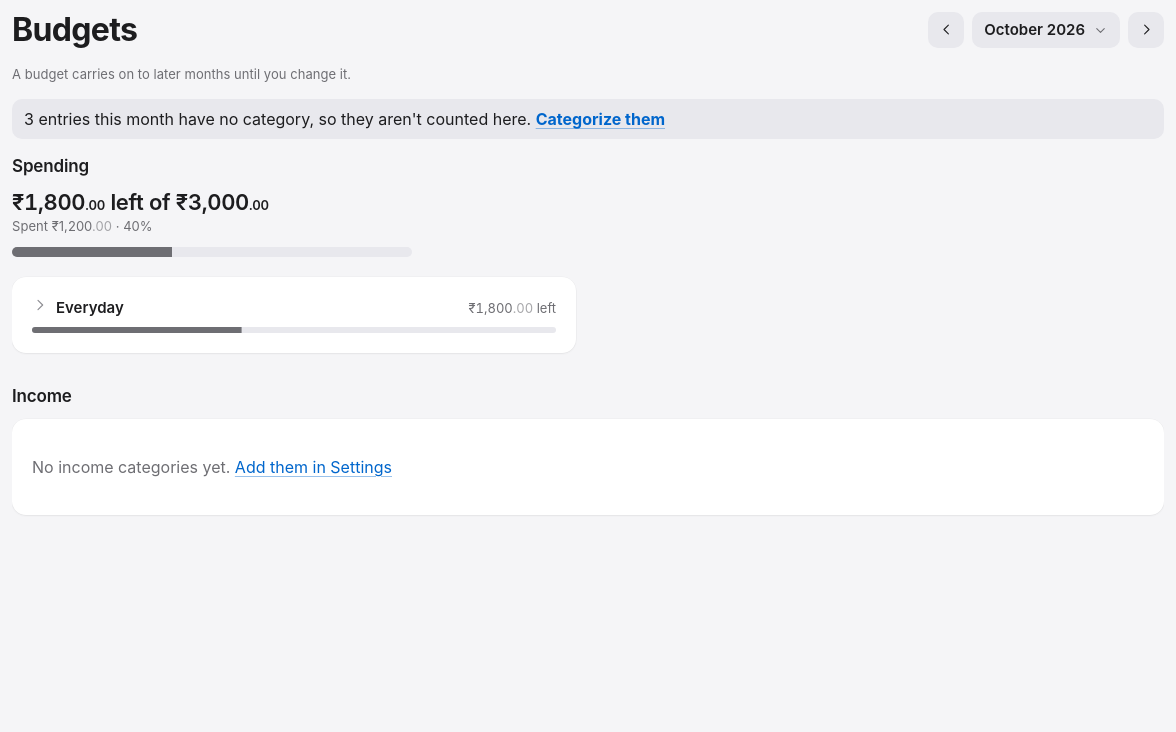
Test: points out unsaved changes in another month and switches to it
The width and height of the screenshot is (1176, 732).
Replace the text in the field labelled "Everyday ₹1,800.00 left" with "5000": (294, 315) [12,277,576,353]
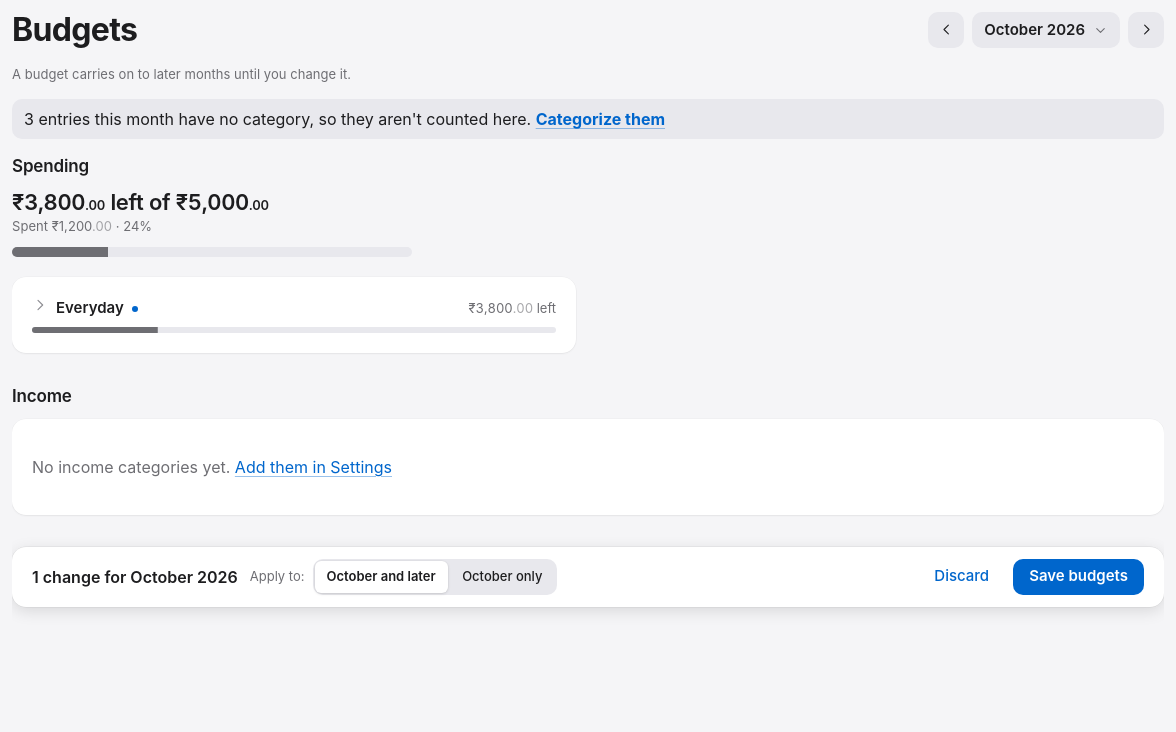
Click the button named "Next month": (1146, 30) [1128,12,1164,48]
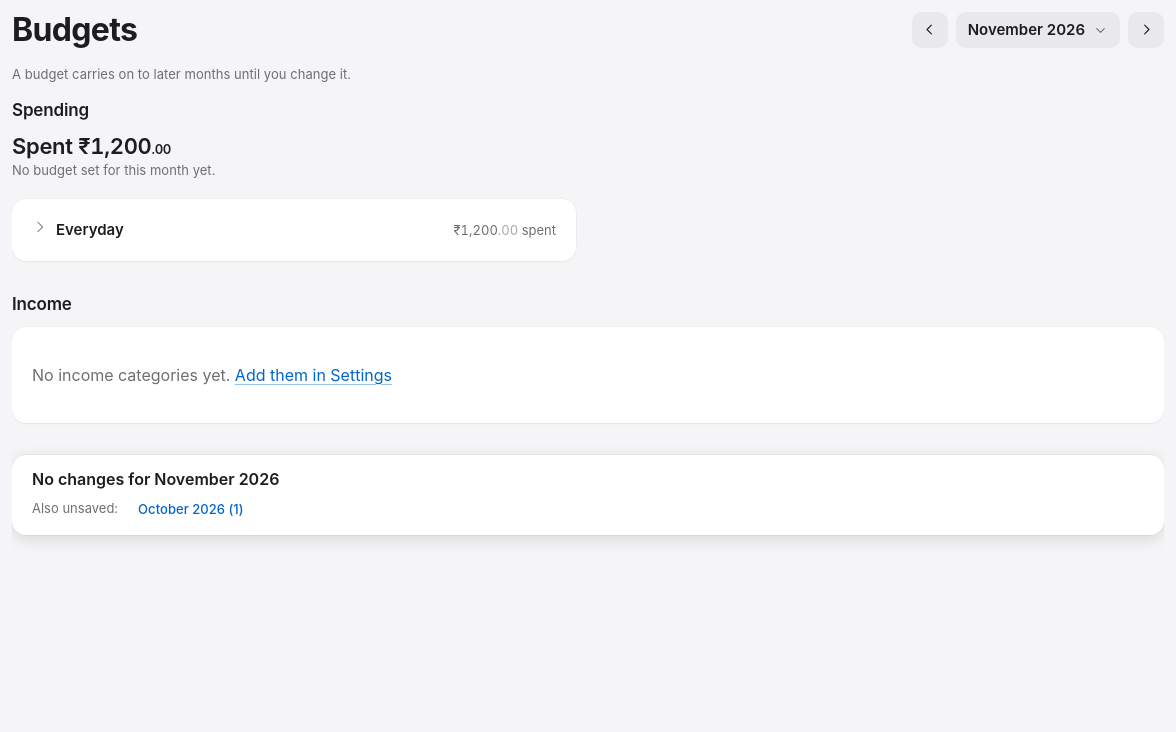
Expected: the text "No changes for November 2026" is shown, [32,467,279,491]
Click the button "October 2026 (1)": (191, 509) [126,495,256,523]
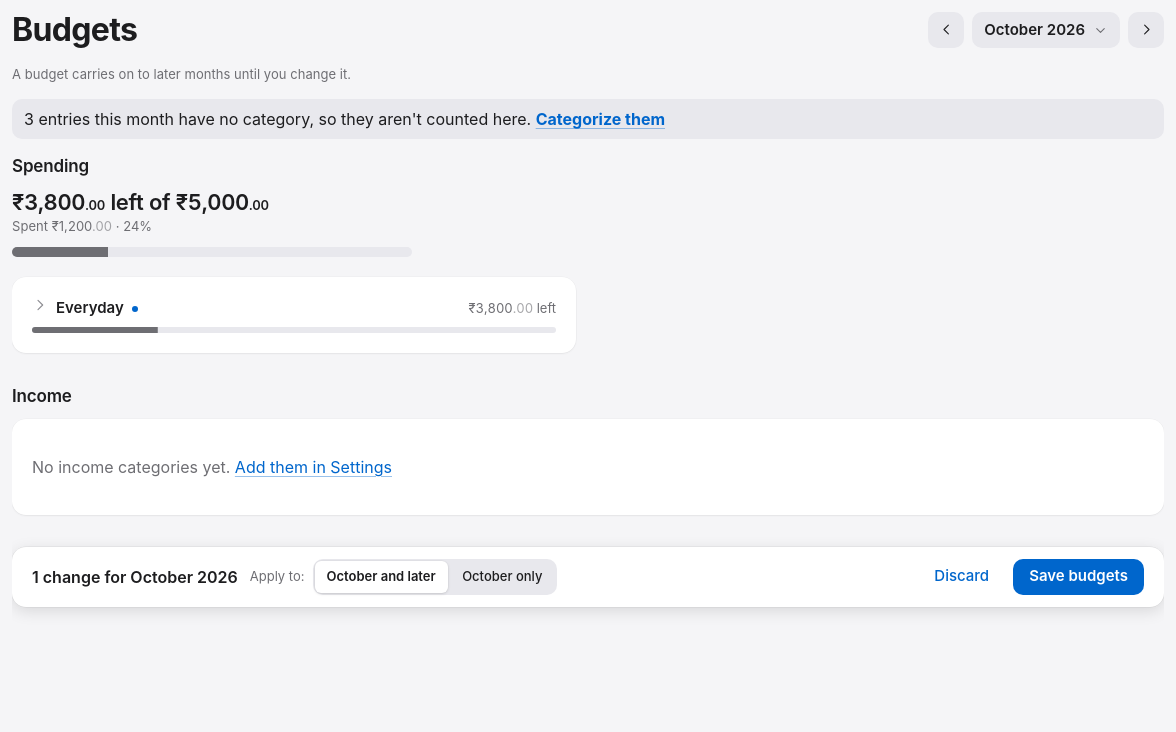
Expected: the text "1 change for October 2026" is shown, [32,565,238,589]
